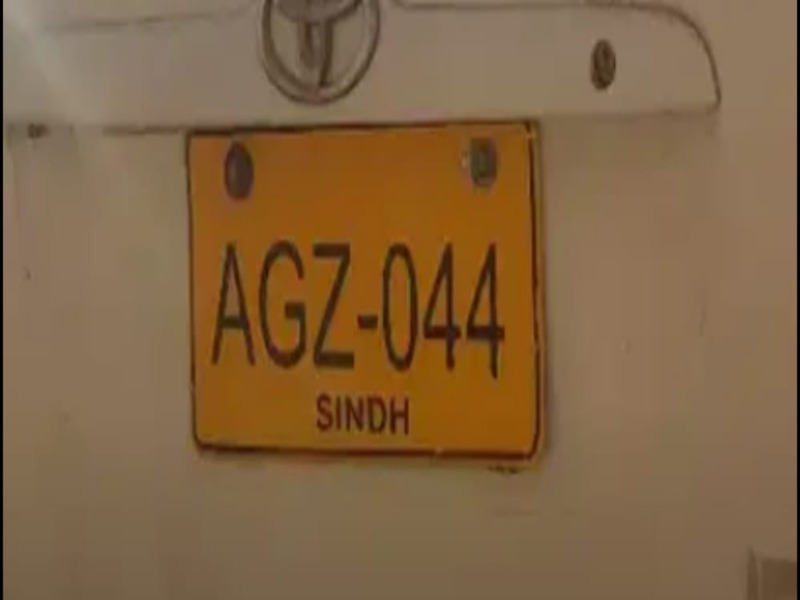License Plate: (183, 124, 540, 463)
